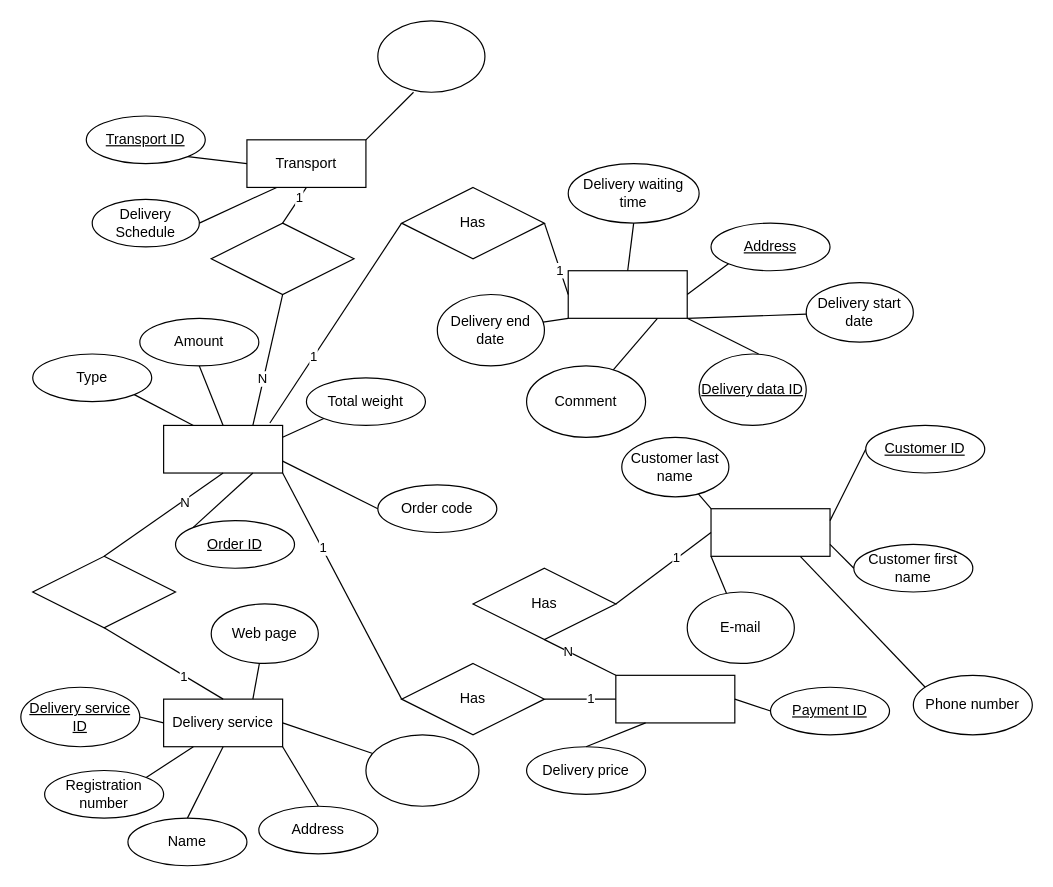
Some shapes in this 1053 by 887 pixel diagram are drawn without their labels. The shapes that lost their labels are listed below. From the top down, each one's box as (x1, y1, x2, y2) in pixels, then its label:
(377, 20, 485, 92): Transport type
(210, 222, 354, 295): Delivers
(567, 270, 687, 318): Delivery data
(162, 424, 283, 473): Order
(710, 508, 830, 556): Customer
(32, 555, 176, 628): Processes
(615, 674, 735, 723): Order payment
(365, 734, 479, 806): Specialization
